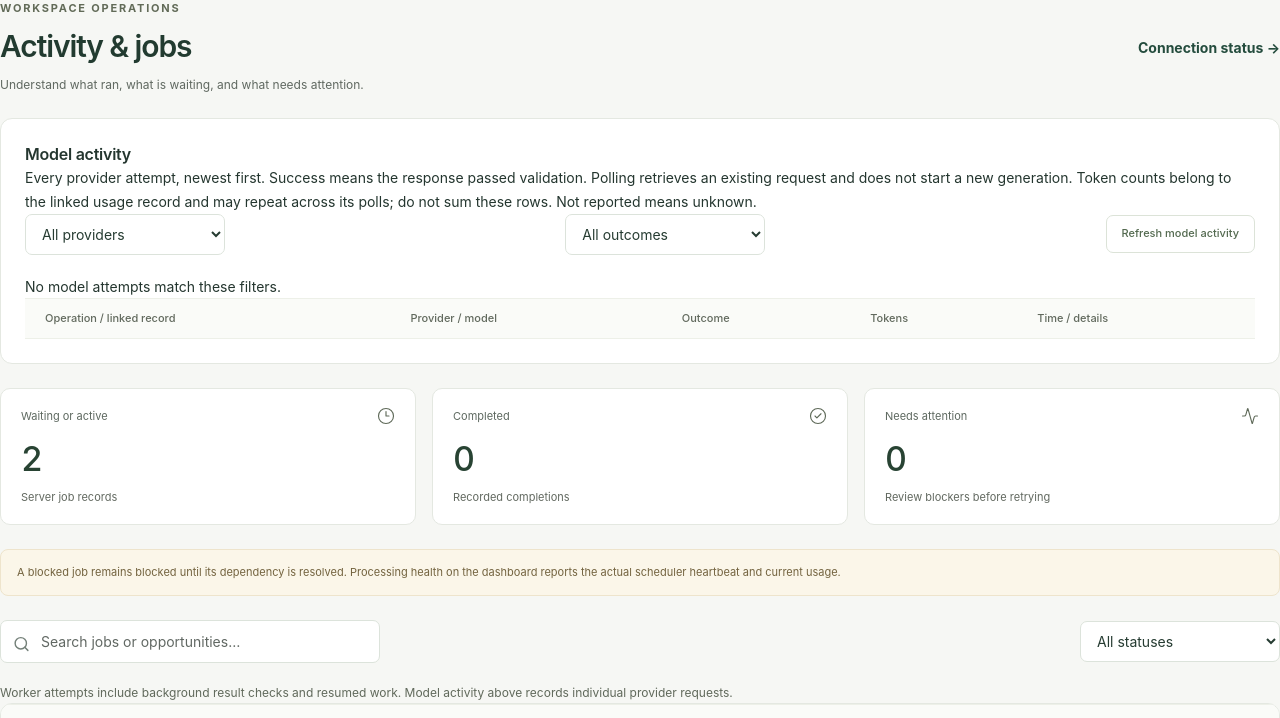
Scenario: filters OCR waits separately from retries and keeps cancellation available
Step 1. Select "Awaiting OCR" in the dropdown named "Filter jobs" → (1180, 642), box [1080, 621, 1279, 662]
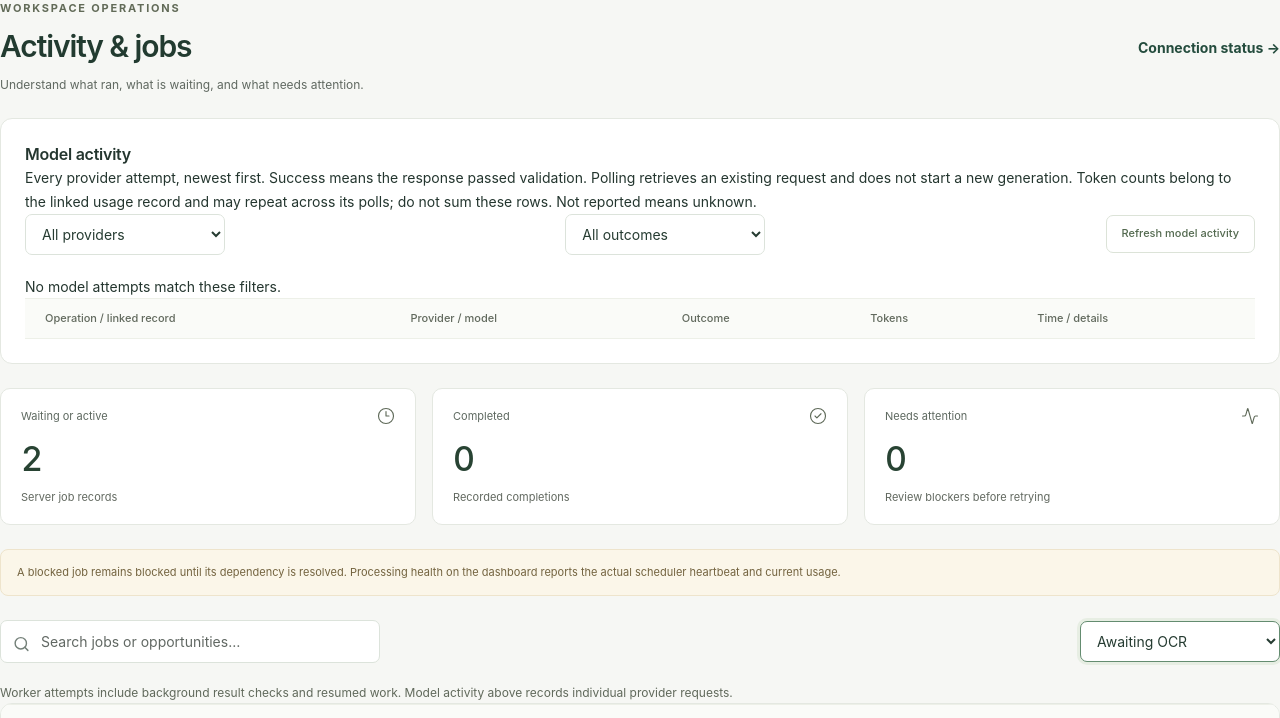
Check: the text "Synthetic ordinary retry" is not shown
Step 2. Select "Retry_wait" in the dropdown named "Filter jobs" → (1180, 642), box [1080, 621, 1279, 662]
(page scrolled)
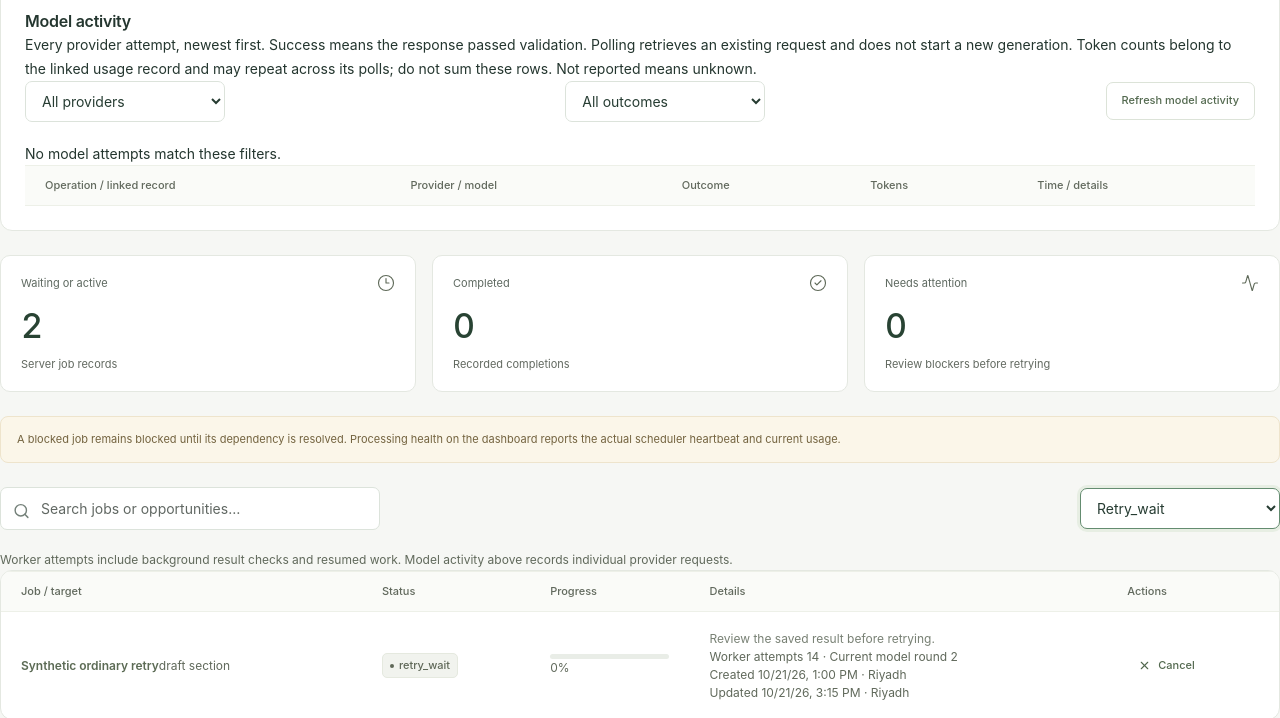
Check: the link "Synthetic ordinary retry" is shown, box [21, 658, 159, 672]
